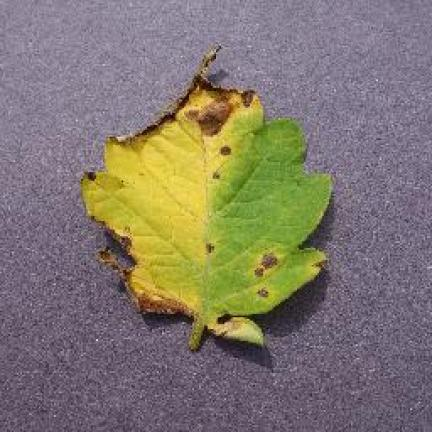disease: (81, 49, 329, 348)
leaf: (103, 46, 265, 163), (90, 210, 198, 318), (118, 268, 191, 314), (199, 307, 246, 337)
